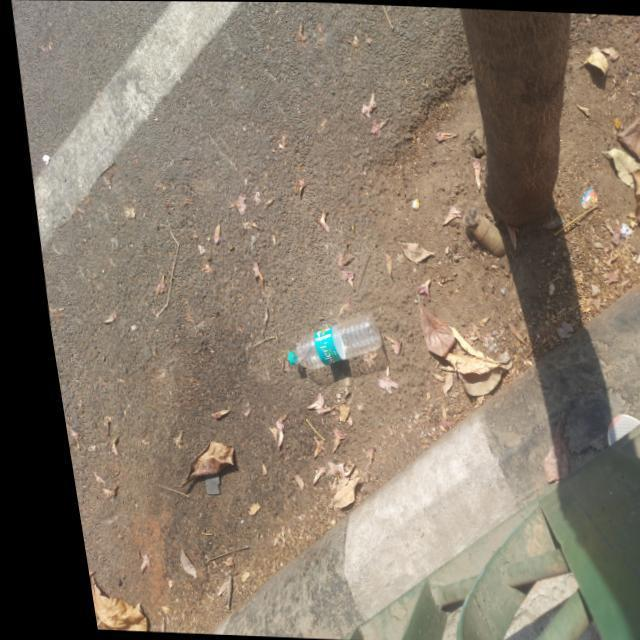Background: (11, 0, 640, 637)
Plastic_Bag: (287, 229, 289, 231)
Plastic_bottle: (276, 313, 371, 369), (455, 205, 497, 256)
Plastic_wraper: (574, 187, 591, 208)
